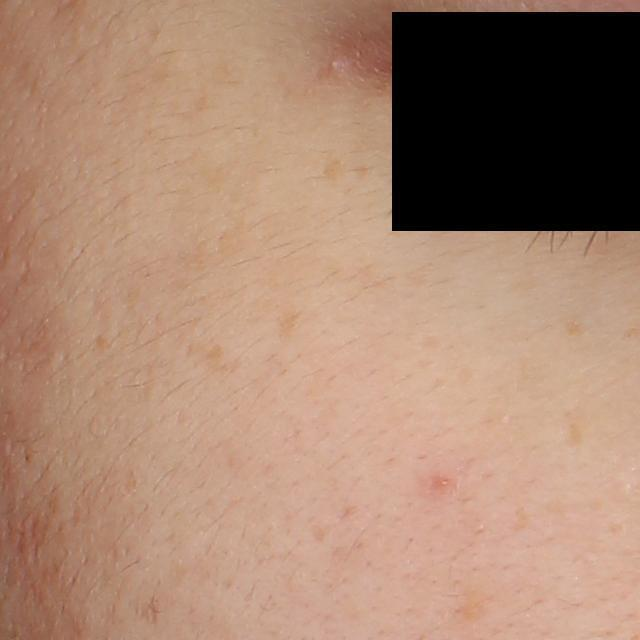melasma: (319, 149, 347, 185), (563, 408, 588, 445), (273, 310, 301, 343), (564, 316, 585, 336)
